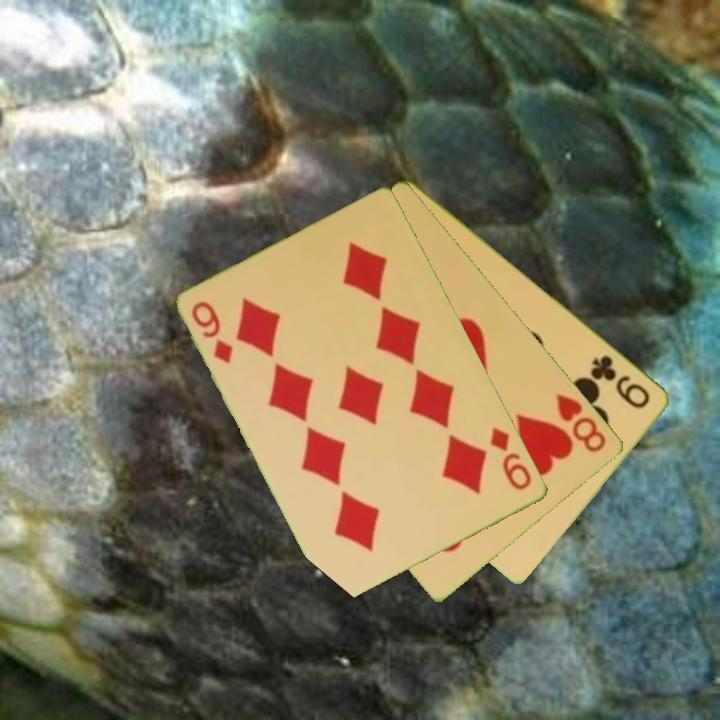8h: (553, 389, 610, 456)
9c: (587, 351, 654, 412)
9d: (487, 423, 535, 494), (188, 298, 237, 367)
